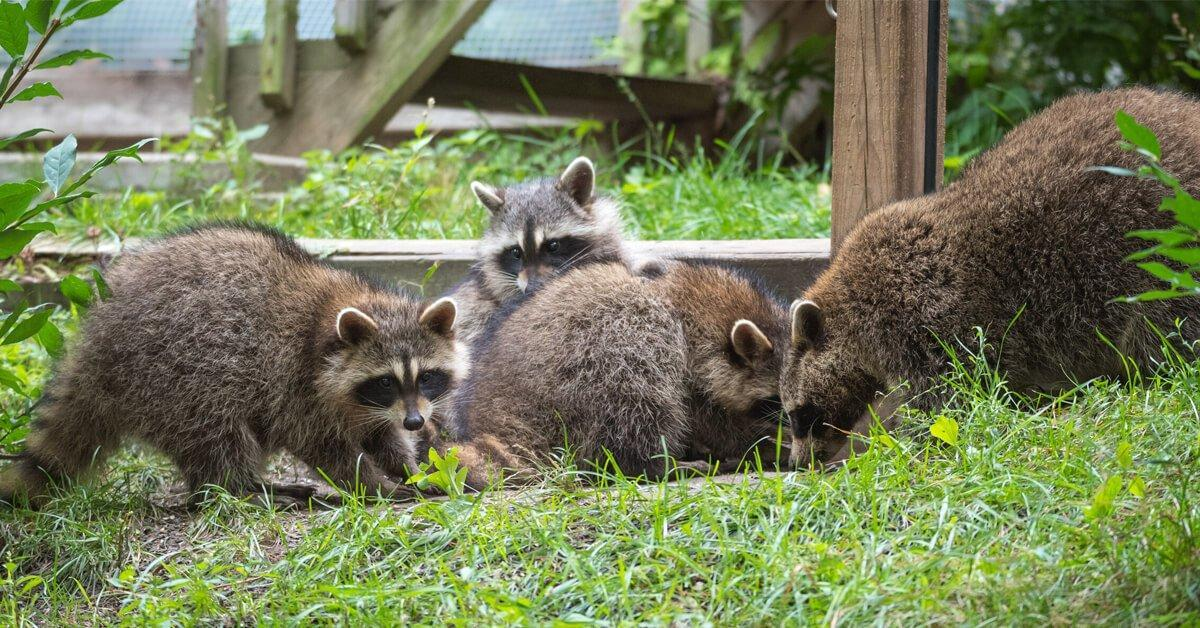raccoon: (782, 82, 1200, 480), (7, 212, 465, 515), (471, 266, 782, 505), (471, 146, 632, 298)
